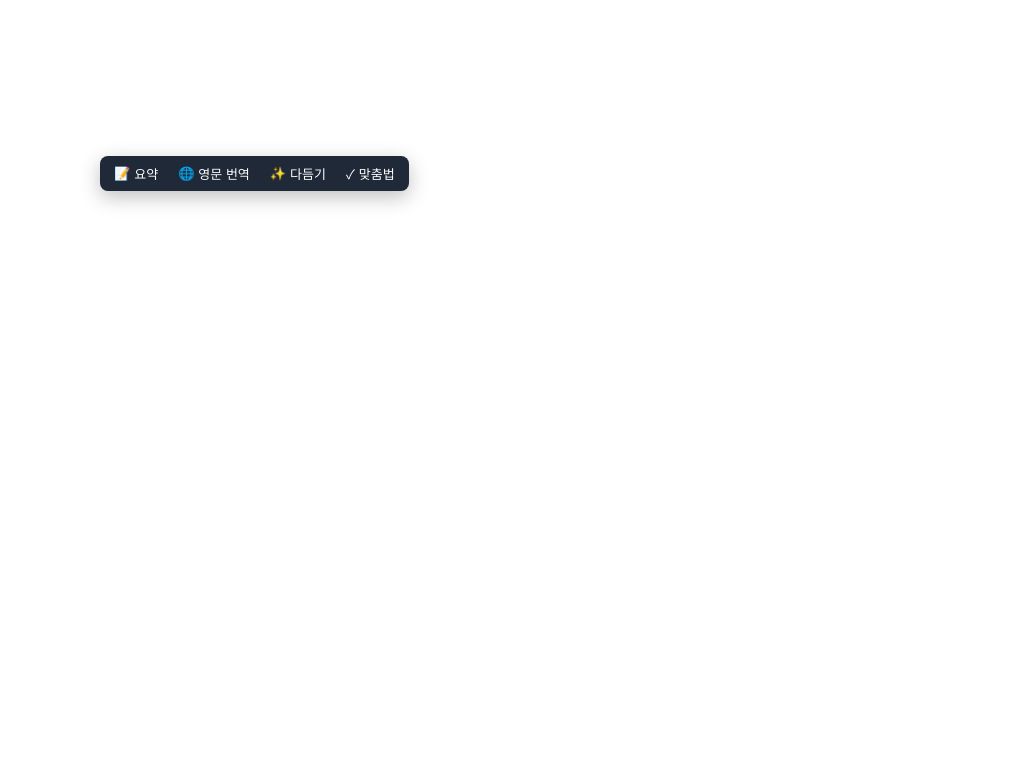
Test: InlineAIAssistant › runs LLM and shows result modal with editable textarea
Click the button with test id "inline-ai-action-summarize" at point(136, 174), box [106,160,166,187]
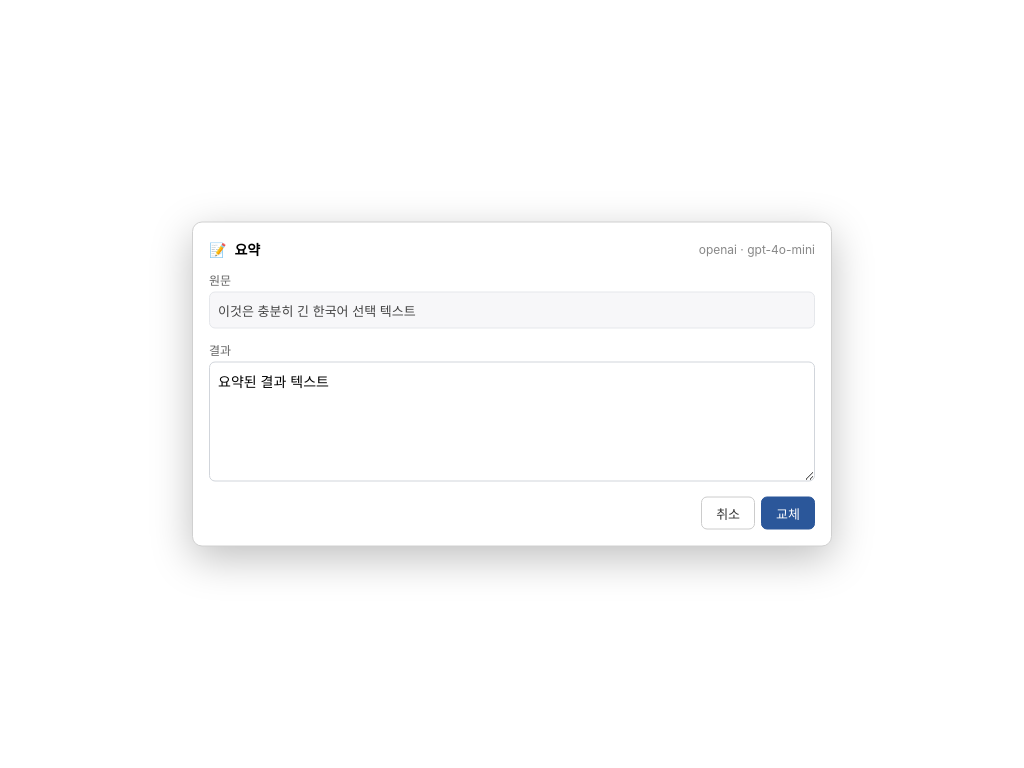
Check: the dialog with test id "inline-ai-result-modal" is shown, box [192,222,832,546]
Check: the text box with test id "inline-ai-result-text" holds "요약된 결과 텍스트", box [209,362,815,482]
